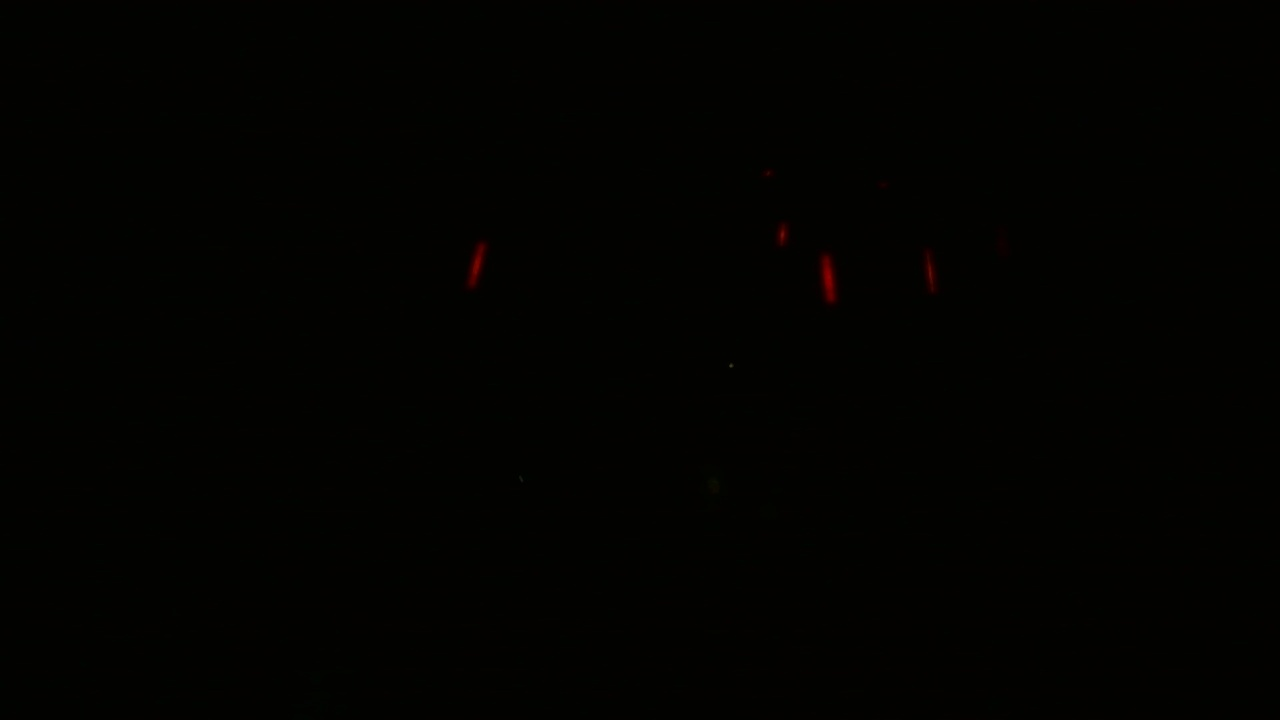pair1: (813, 244, 938, 301)
